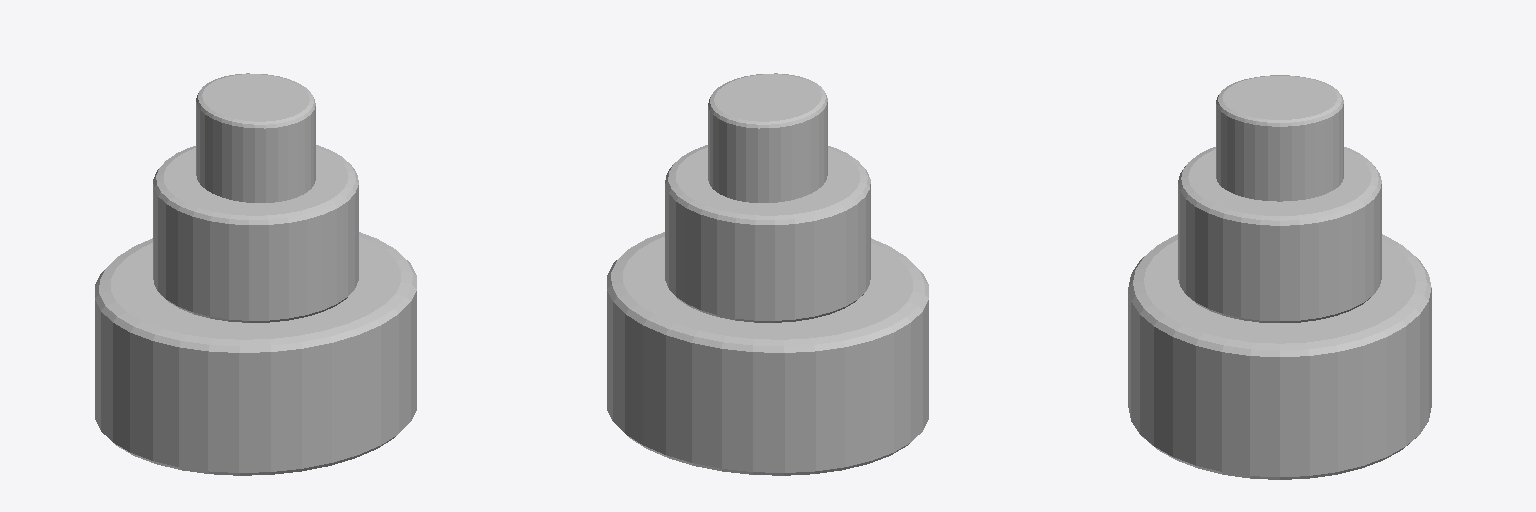
File: Cherry_Cake_Model.obj
3 renders of one model, left to right at view 1: azimuth 30°, elevation 25°; view 2: azimuth 150°, elevation 25°; view 3: azimuth 270°, elevation 25°, orthographic.
Visible parts, largest first — view 1: Cake; view 2: Cake; view 3: Cake.
Part boxes in pixels (x1,y1,x2,y2): Cake: (95, 73, 416, 475); Cake: (607, 73, 928, 475); Cake: (1128, 75, 1431, 479).
Size of the model in its own units: 7.53 by 7.95 by 6.91.